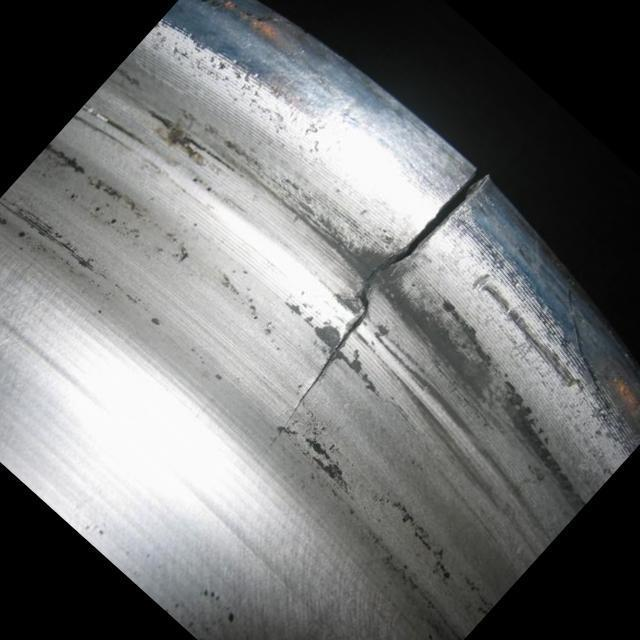defect: (251, 166, 493, 473)
